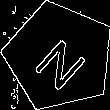N_NE: (27, 24, 92, 89)
